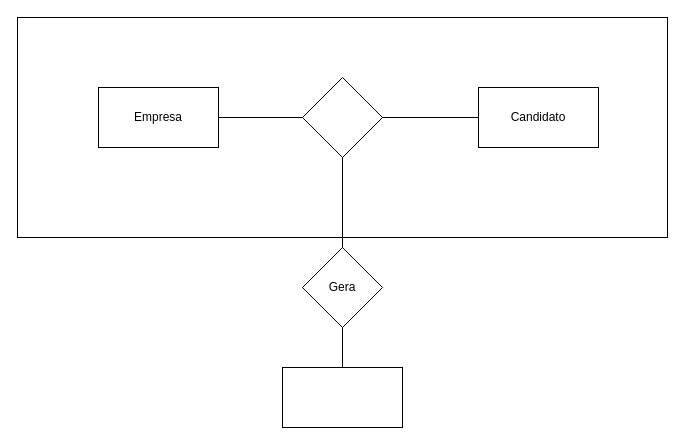
This 685x445 diagram has some shape labels left out. Each missing label, with the centre of its shape:
"Emprego" goes at point (342, 397).
"Entrevista" goes at point (342, 117).
